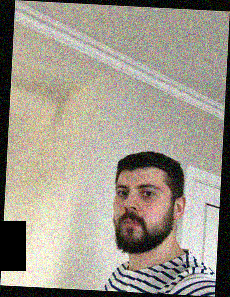without_mask: (112, 175, 165, 256)
